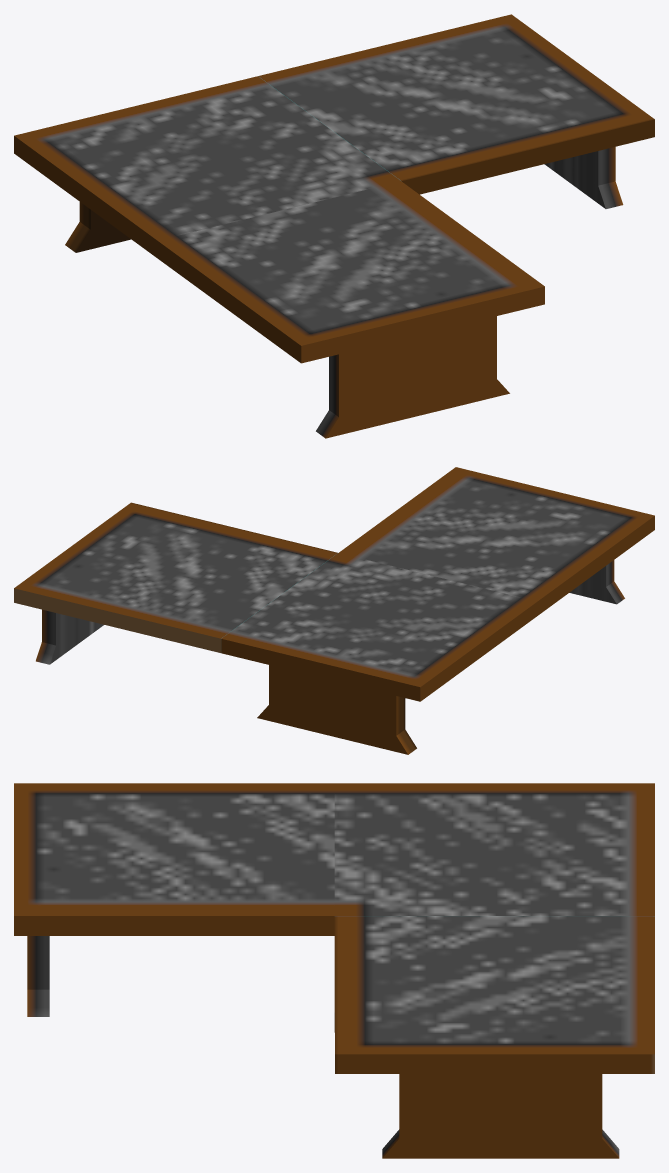
Rendered from table_964x04.obj.
3 views of the same model, one above another, from view 1: azimuth 30°, elevation 25°; view 2: azimuth 150°, elevation 25°; view 3: azimuth 270°, elevation 25° (orthographic). The views are drawn at different scales.
Visible parts, largest first — view 1: Table_964x4; view 2: Table_964x4; view 3: Table_964x4.
Part boxes in pixels (<box>): Table_964x4: <box>14,14,654,438</box>; Table_964x4: <box>14,467,654,754</box>; Table_964x4: <box>14,783,654,1158</box>.
Bounding box in the file's own units: 10 × 2.01 × 10.
